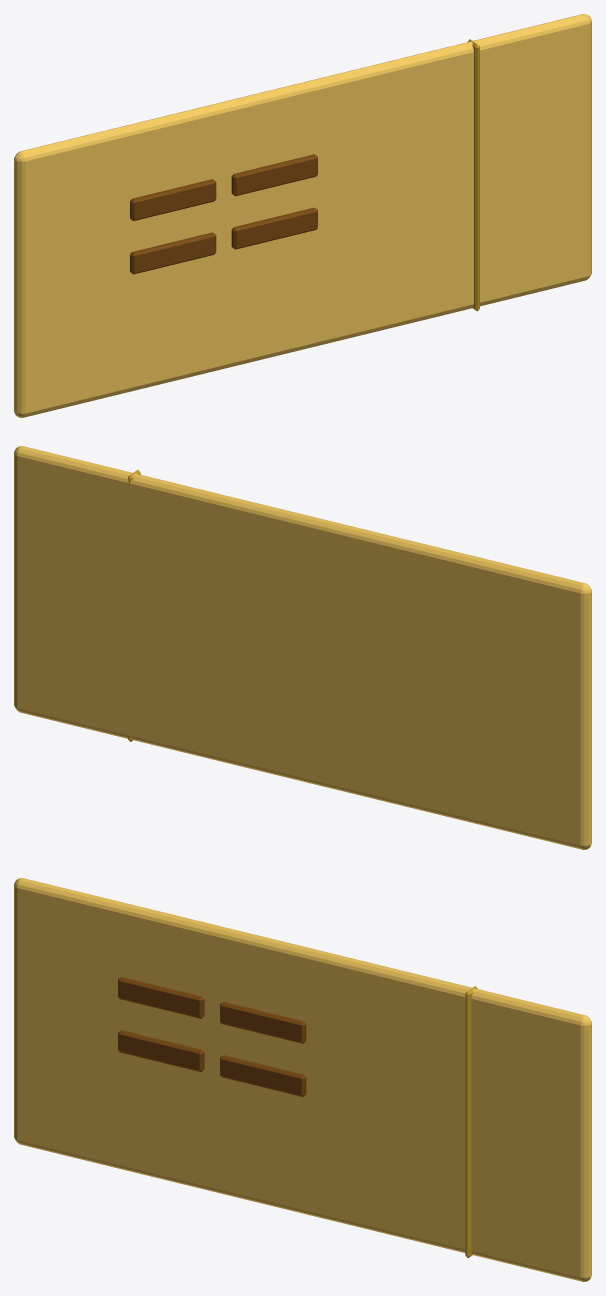
File: keepsake_ticket.glb
The picture shows the model from 3 angles, top to bottom: view 1: azimuth 30°, elevation 25°; view 2: azimuth 150°, elevation 25°; view 3: azimuth 330°, elevation 25°; orthographic projection.
Visible parts, largest first — view 1: ticket, text.001, text.002, text, text.003, tear; view 2: ticket; view 3: ticket, text, text.002, text.001, text.003, tear.
Part boxes in pixels (box(x1,y1,x2,y2)): ticket: box(14, 14, 591, 417); text.001: box(231, 154, 317, 196); text.002: box(130, 232, 216, 274); text: box(130, 179, 216, 220); text.003: box(231, 207, 317, 249); tear: box(467, 39, 479, 311); ticket: box(14, 446, 591, 849); ticket: box(14, 878, 591, 1281); text: box(118, 977, 204, 1018); text.002: box(118, 1030, 204, 1071); text.001: box(220, 1001, 306, 1043); text.003: box(220, 1055, 306, 1096); tear: box(465, 986, 477, 1257).
Size of the model in its own units: 0.34 by 0.15 by 0.012.
